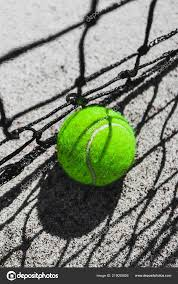tennis_ball: (55, 104, 136, 189)
